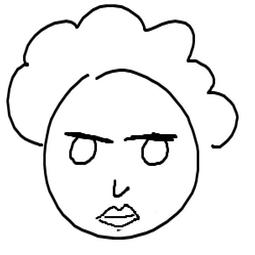cupid_mouth: (93, 203, 145, 229)
empty_eye: (62, 129, 108, 171), (135, 130, 172, 169)
nose: (101, 178, 136, 199)
